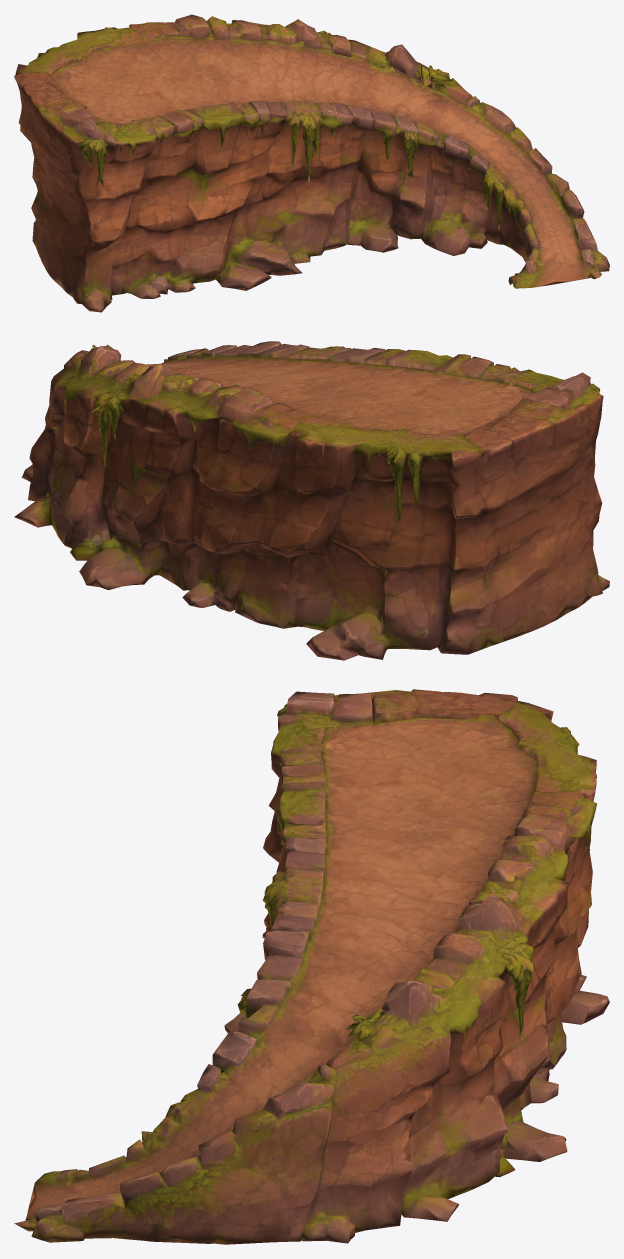
The model's file is cliffside path 3d model.glb.
3 views of the same model, one above another, from view 1: azimuth 30°, elevation 25°; view 2: azimuth 150°, elevation 25°; view 3: azimuth 270°, elevation 25° (orthographic). The views are drawn at different scales.
Visible parts, largest first — view 1: tripo_node_8fac383e-ae3b-435b-b26e-41ab502cf369; view 2: tripo_node_8fac383e-ae3b-435b-b26e-41ab502cf369; view 3: tripo_node_8fac383e-ae3b-435b-b26e-41ab502cf369.
Boxes of the visible parts, x1,y1,x2,y2 form: tripo_node_8fac383e-ae3b-435b-b26e-41ab502cf369: [14, 14, 609, 312]; tripo_node_8fac383e-ae3b-435b-b26e-41ab502cf369: [14, 341, 609, 660]; tripo_node_8fac383e-ae3b-435b-b26e-41ab502cf369: [14, 689, 609, 1244].
Bounding box in the file's own units: 1 × 0.3737 × 0.7993.
Materials: 1 (1 with a texture image).
